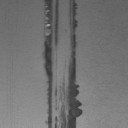slag inclusion: (43, 0, 83, 128)
